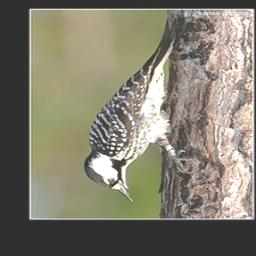Woodpecker: (83, 16, 199, 202)
